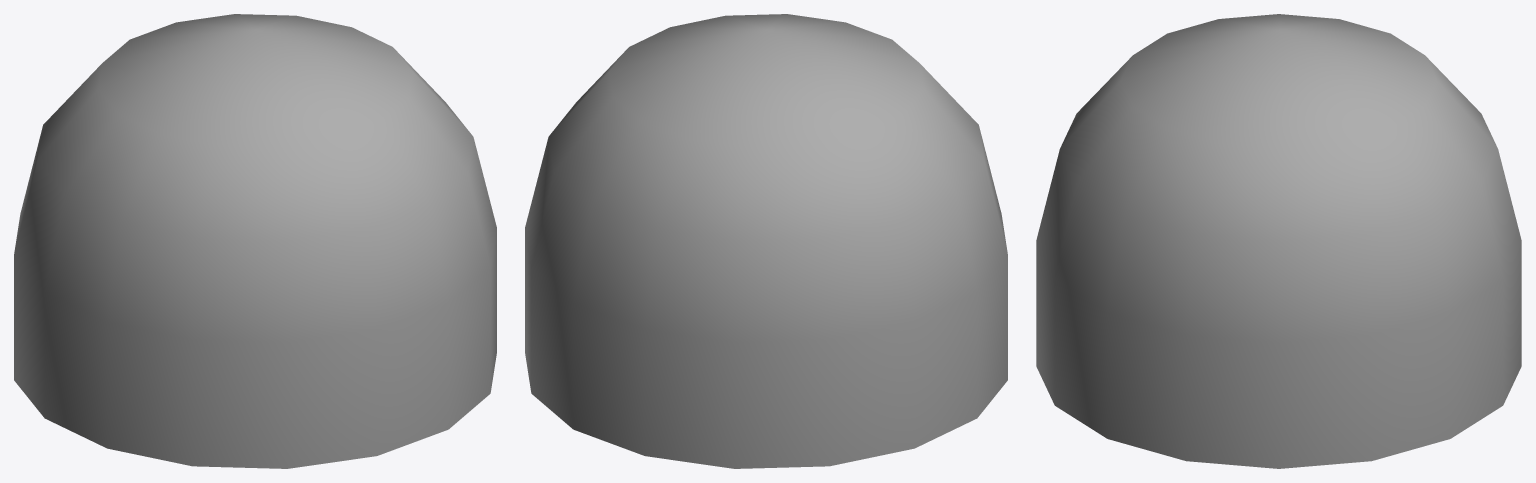
The model's file is Arm_Sleeve_S_01_L.fbx.
3 renders of one model, left to right at view 1: azimuth 30°, elevation 25°; view 2: azimuth 150°, elevation 25°; view 3: azimuth 270°, elevation 25°, orthographic.
Visible parts, largest first — view 1: Arm_Sleeve_S_01_L; view 2: Arm_Sleeve_S_01_L; view 3: Arm_Sleeve_S_01_L.
Part boxes in pixels (x1,y1,x2,y2): Arm_Sleeve_S_01_L: (14, 14, 496, 468); Arm_Sleeve_S_01_L: (525, 14, 1007, 468); Arm_Sleeve_S_01_L: (1036, 14, 1521, 468).
Size of the model in its own units: 48.18 by 36.77 by 48.18.
